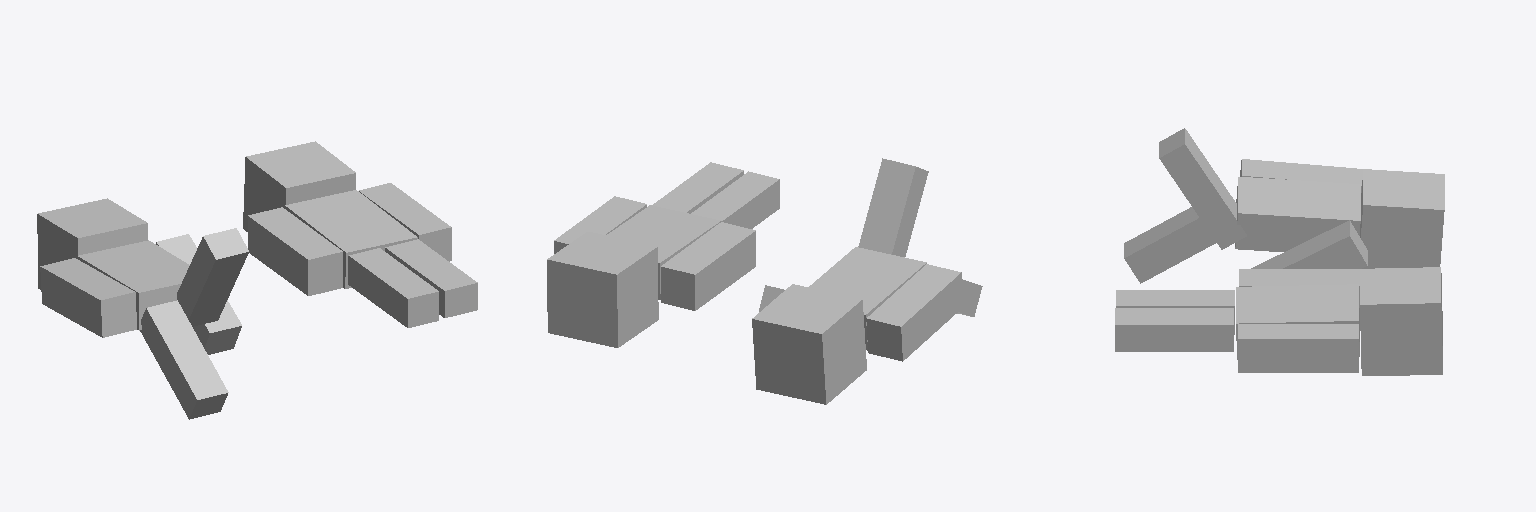
File: steve_000039.obj
3 views of the same model, side by side, from view 1: azimuth 30°, elevation 25°; view 2: azimuth 150°, elevation 25°; view 3: azimuth 270°, elevation 25° (orthographic).
Parts seen in each view (by area): view 1: Cube_Cube.001, Cube.001_Cube.002; view 2: Cube.001_Cube.002, Cube_Cube.001; view 3: Cube.001_Cube.002, Cube_Cube.001.
Boxes of the visible parts, x1,y1,x2,y2 form: Cube_Cube.001: [37, 198, 248, 419]; Cube.001_Cube.002: [243, 141, 477, 327]; Cube.001_Cube.002: [547, 162, 779, 347]; Cube_Cube.001: [752, 158, 982, 404]; Cube.001_Cube.002: [1115, 267, 1442, 375]; Cube_Cube.001: [1124, 128, 1444, 283].
Bounding box in the file's own units: 6.55 × 2.85 × 5.36.